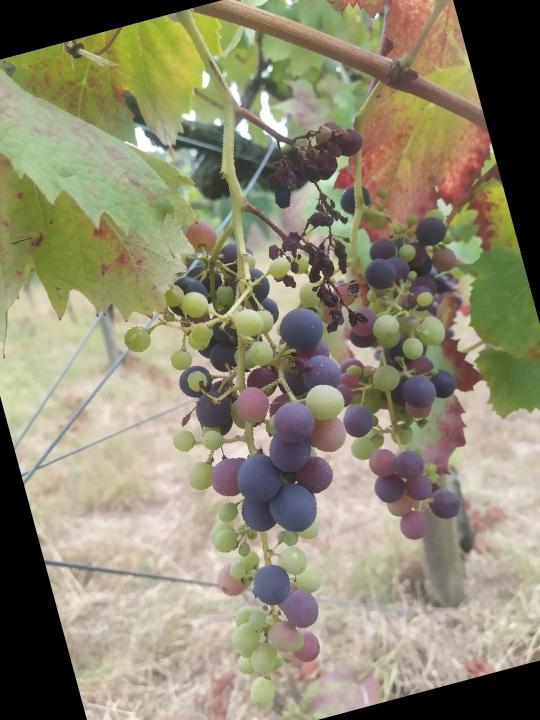grape: (94, 186, 459, 720), (255, 114, 396, 286)
